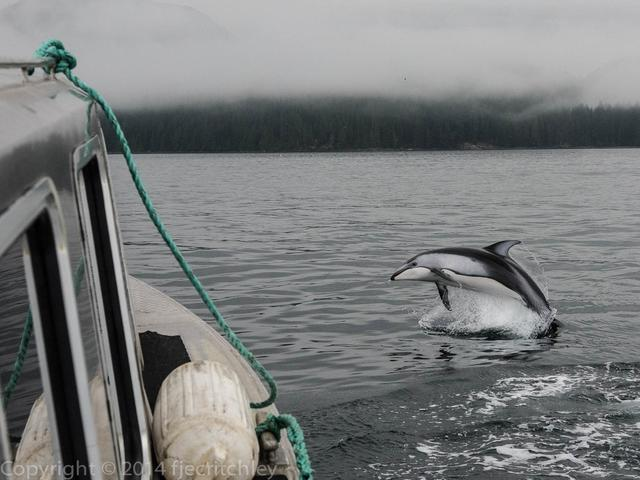dolphin: (368, 224, 640, 348)
